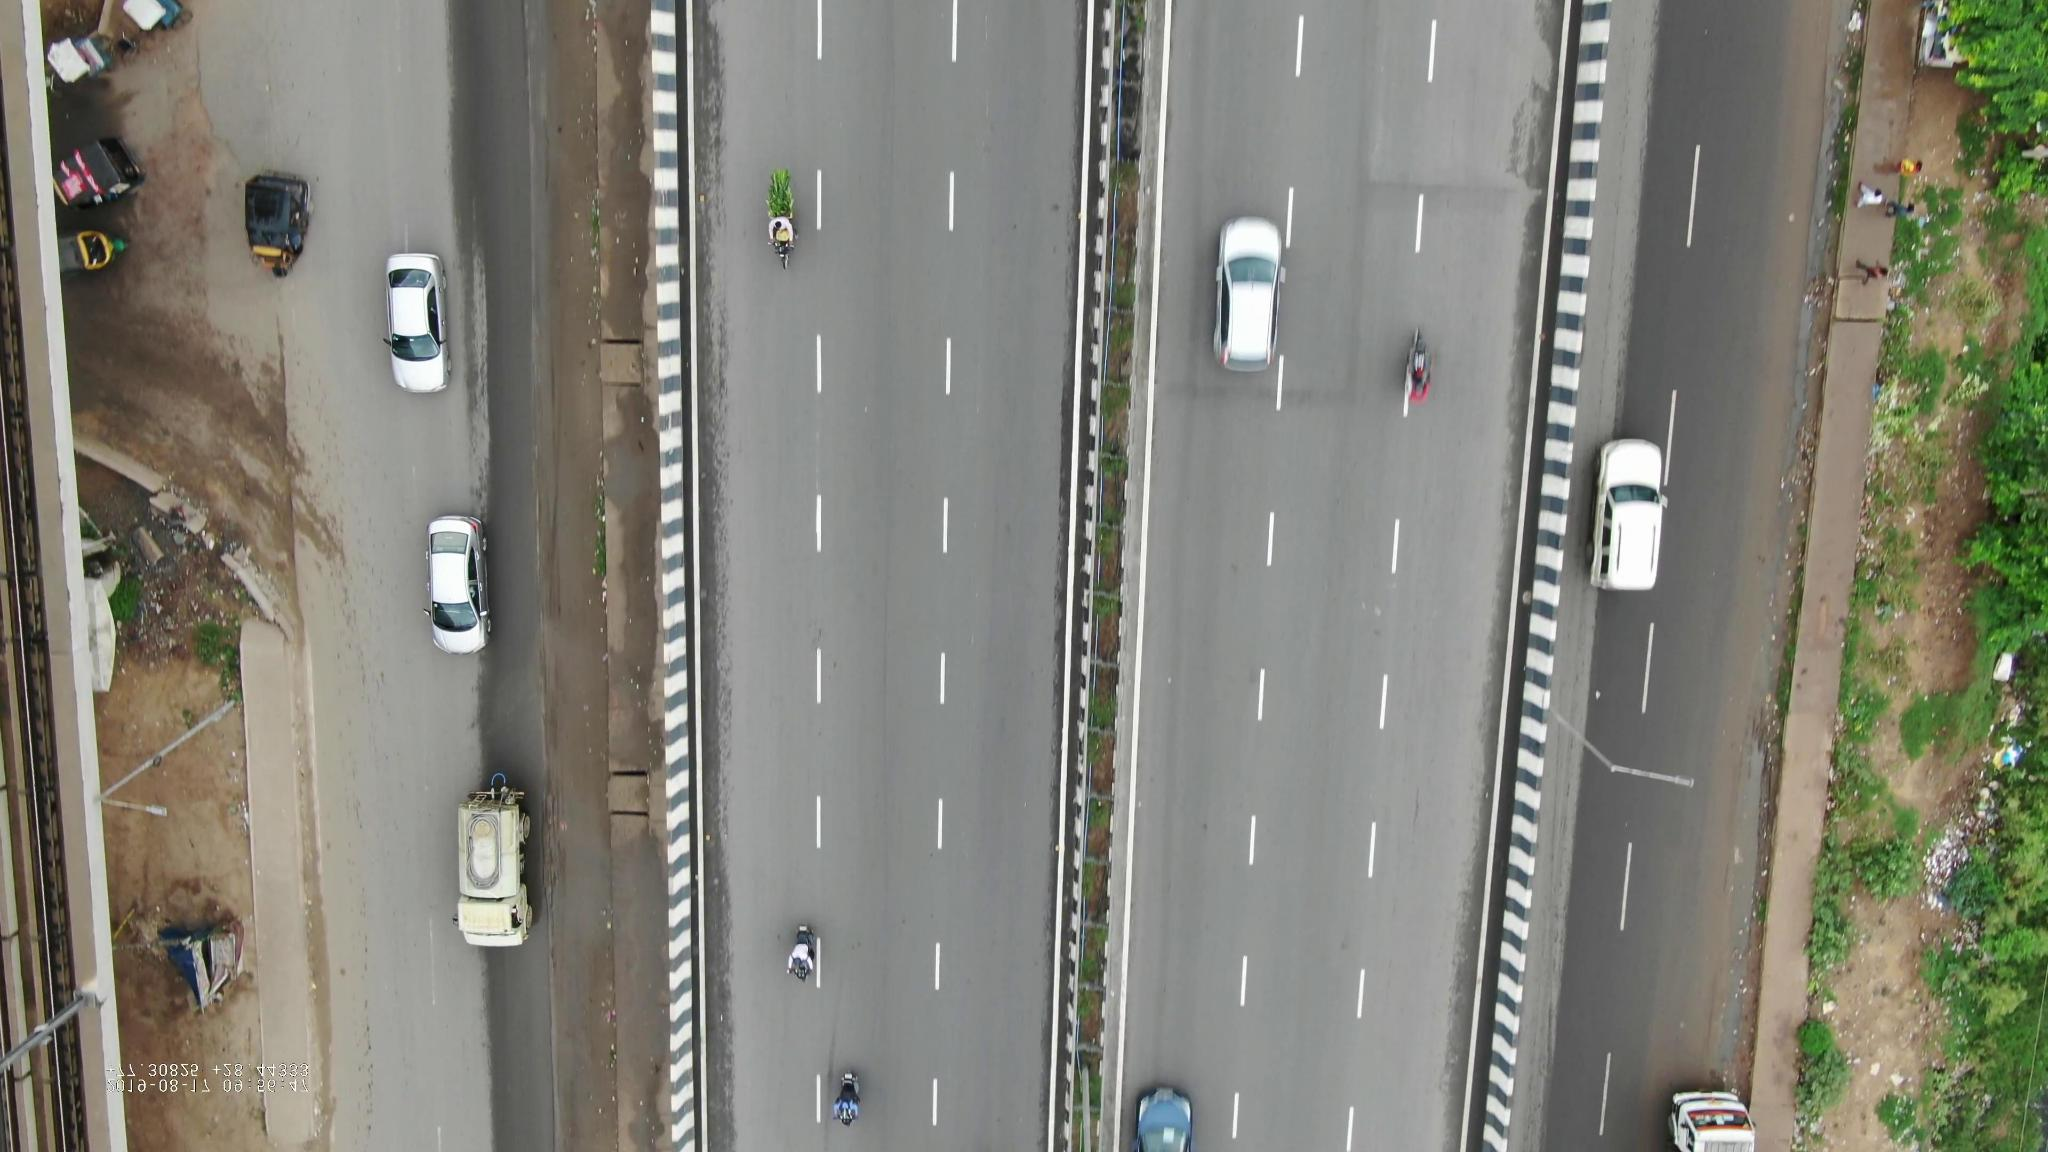Muddy_road: (539, 463, 660, 731), (547, 27, 663, 287), (571, 897, 671, 1152)
